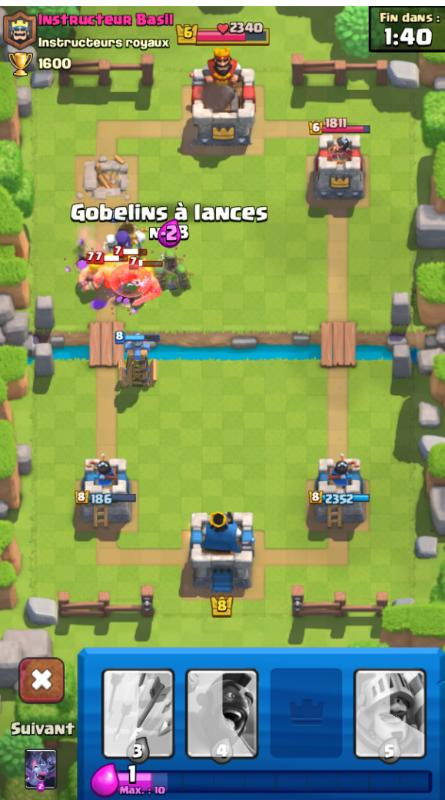gobelin_lances: (172, 264, 193, 292), (152, 266, 171, 292), (164, 249, 179, 270)
squelette: (103, 233, 116, 253)
